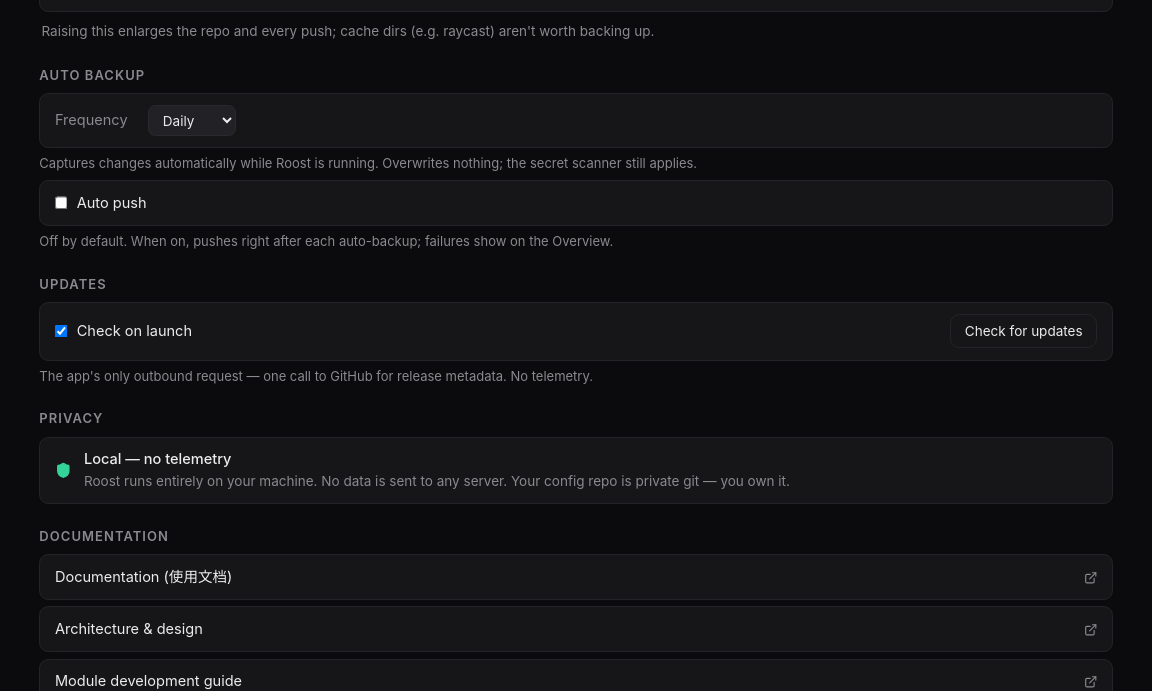
Test: Settings auto-backup section › manual update check shows failed message on error
(page scrolled)
Click the button "Check for updates" at coordinates (1024, 331), box top-left (950, 314), bottom-right (1097, 348)
(page scrolled)
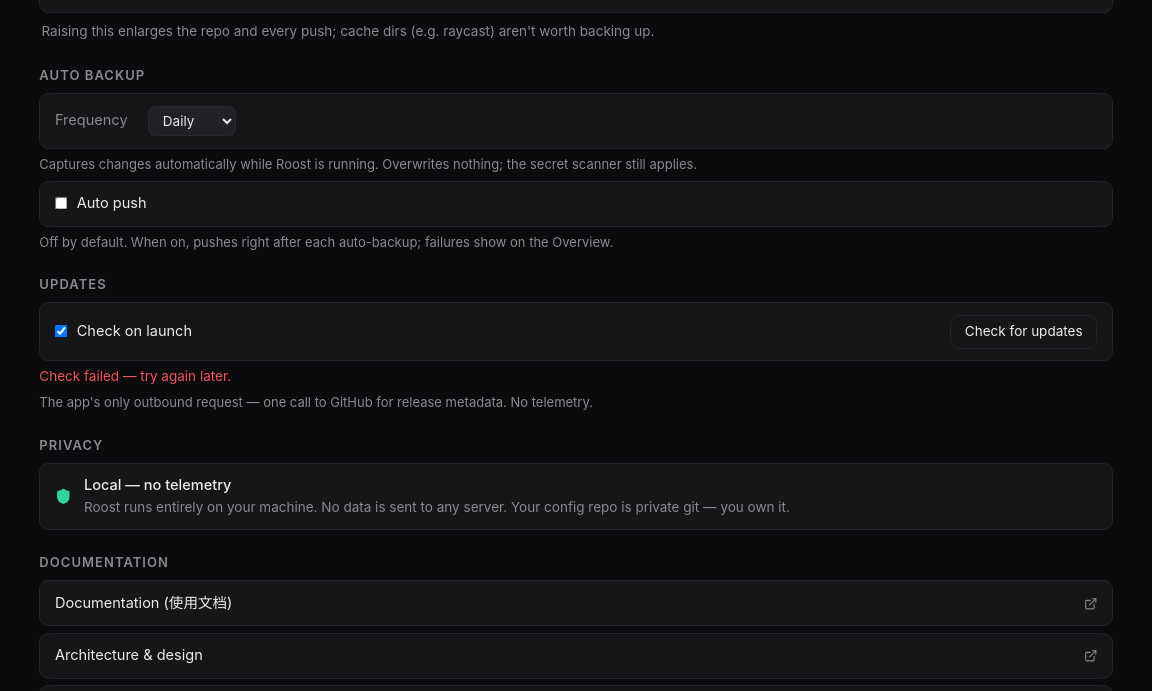
Now the text "Check failed — try again later." is shown, box top-left (39, 368), bottom-right (231, 384)
